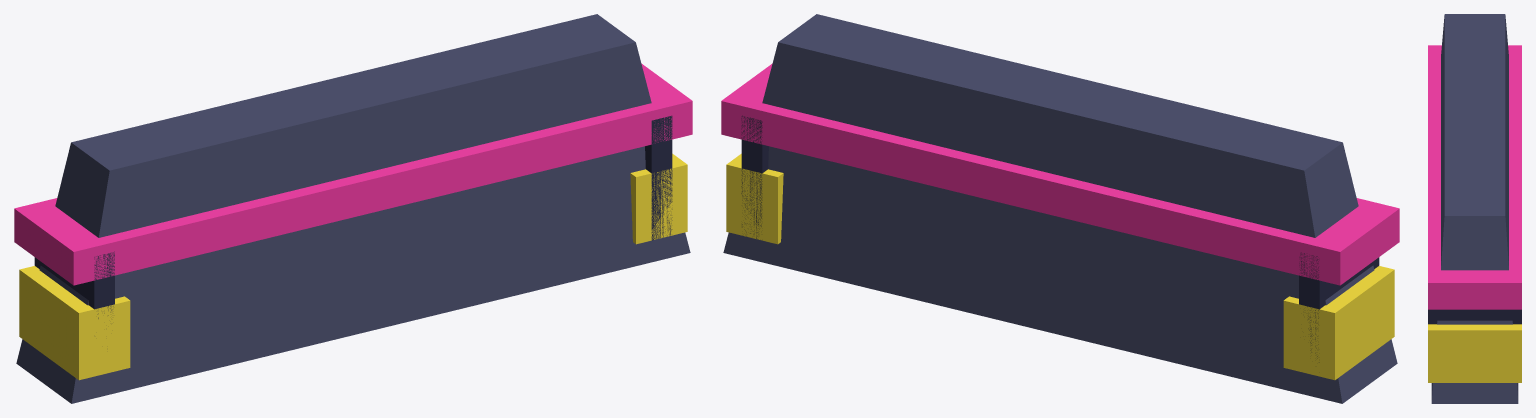
File: env_r8_neon_barrier.glb
3 renders of one model, left to right at view 1: azimuth 30°, elevation 25°; view 2: azimuth 150°, elevation 25°; view 3: azimuth 270°, elevation 25°, orthographic. The views are drawn at different scales.
Visible parts, largest first — view 1: env_r8_neon_barrier; view 2: env_r8_neon_barrier; view 3: env_r8_neon_barrier.
Boxes of the visible parts, x1,y1,x2,y2 form: env_r8_neon_barrier: (14, 14, 692, 403); env_r8_neon_barrier: (721, 14, 1399, 403); env_r8_neon_barrier: (1428, 14, 1521, 403).
Size of the model in its own units: 3 by 1 by 0.5.
Materials: 1 (1 with a texture image).
